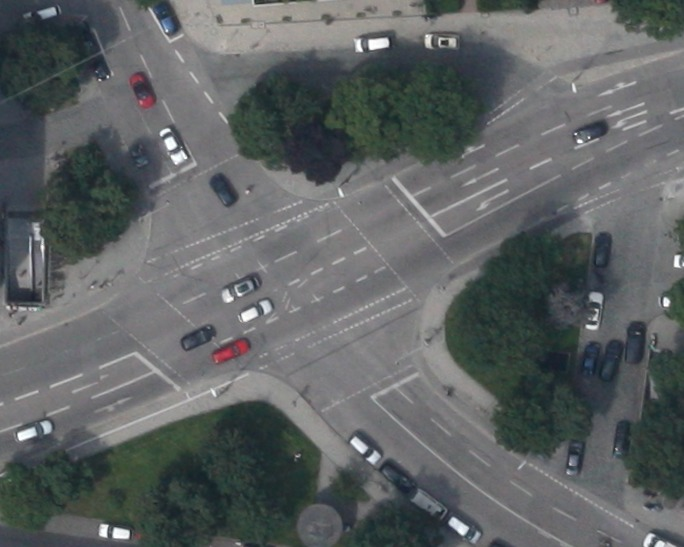car: (376, 458, 415, 495), (218, 272, 261, 304), (409, 487, 448, 522), (444, 511, 482, 545), (156, 125, 188, 165), (209, 336, 250, 365), (597, 338, 623, 381), (207, 171, 238, 207), (21, 1, 62, 28), (12, 418, 53, 445), (347, 433, 381, 465), (178, 323, 215, 351), (623, 319, 646, 364), (127, 71, 154, 109), (235, 298, 272, 325), (570, 118, 607, 145), (151, 0, 179, 35), (611, 419, 633, 459), (583, 289, 603, 331), (564, 436, 584, 475), (353, 33, 391, 53), (96, 521, 133, 541), (423, 32, 460, 51), (592, 230, 610, 267), (580, 343, 599, 376), (88, 55, 111, 82), (128, 143, 149, 168)
